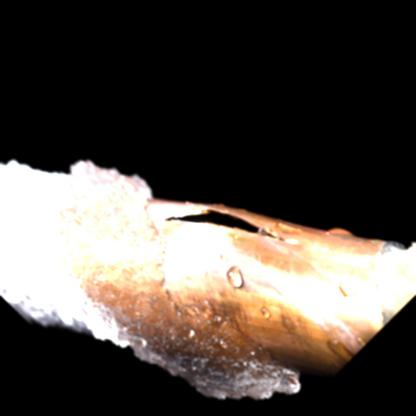burst: (143, 183, 282, 269)
